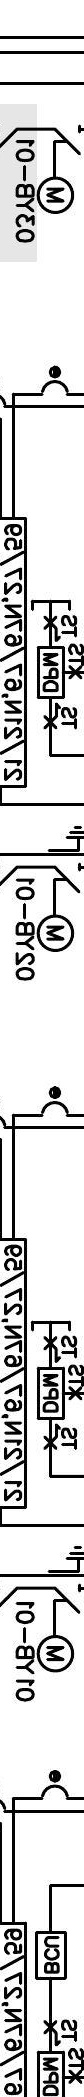BCU: (35, 1930, 68, 1981)
DPM: (36, 1367, 65, 1420), (36, 646, 65, 699)
